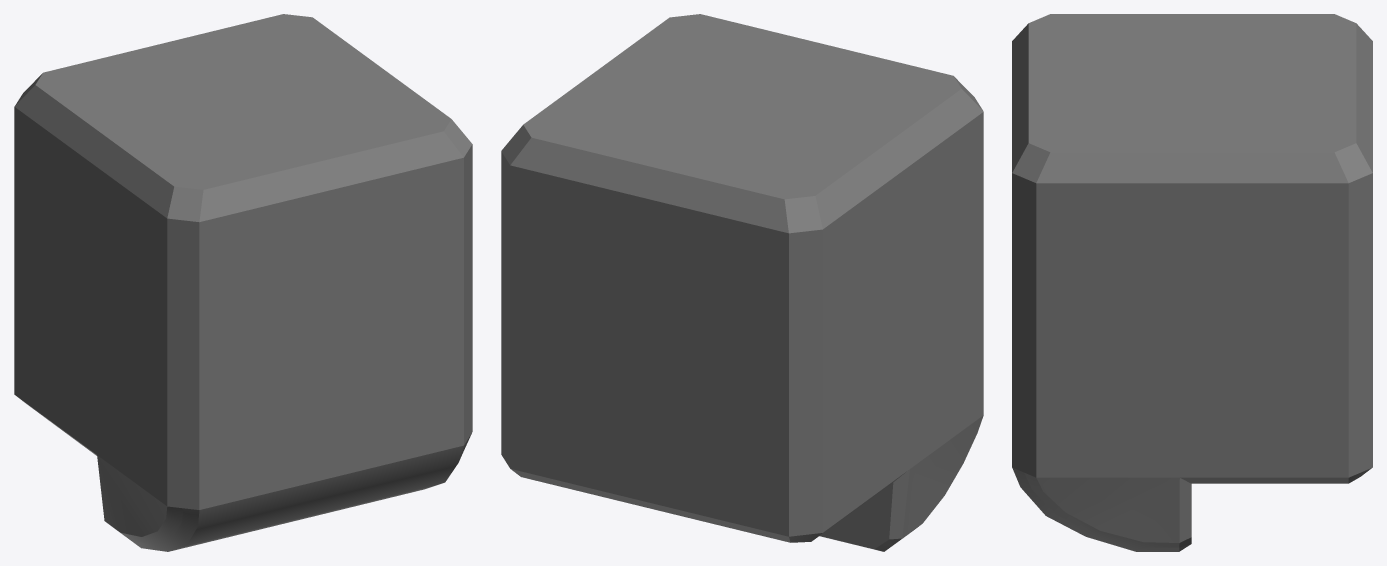
Rendered from uparm.obj.
3 renders of one model, left to right at view 1: azimuth 30°, elevation 25°; view 2: azimuth 150°, elevation 25°; view 3: azimuth 270°, elevation 25°, orthographic. The views are drawn at different scales.
Visible parts, largest first — view 1: Rig1; view 2: Rig1; view 3: Rig1.
Part boxes in pixels (x1,y1,x2,y2): Rig1: (14, 14, 472, 551); Rig1: (501, 14, 983, 551); Rig1: (1012, 14, 1372, 551).
Size of the model in its own units: 1 by 1.24 by 1.
Materials: 1 (1 with a texture image).
